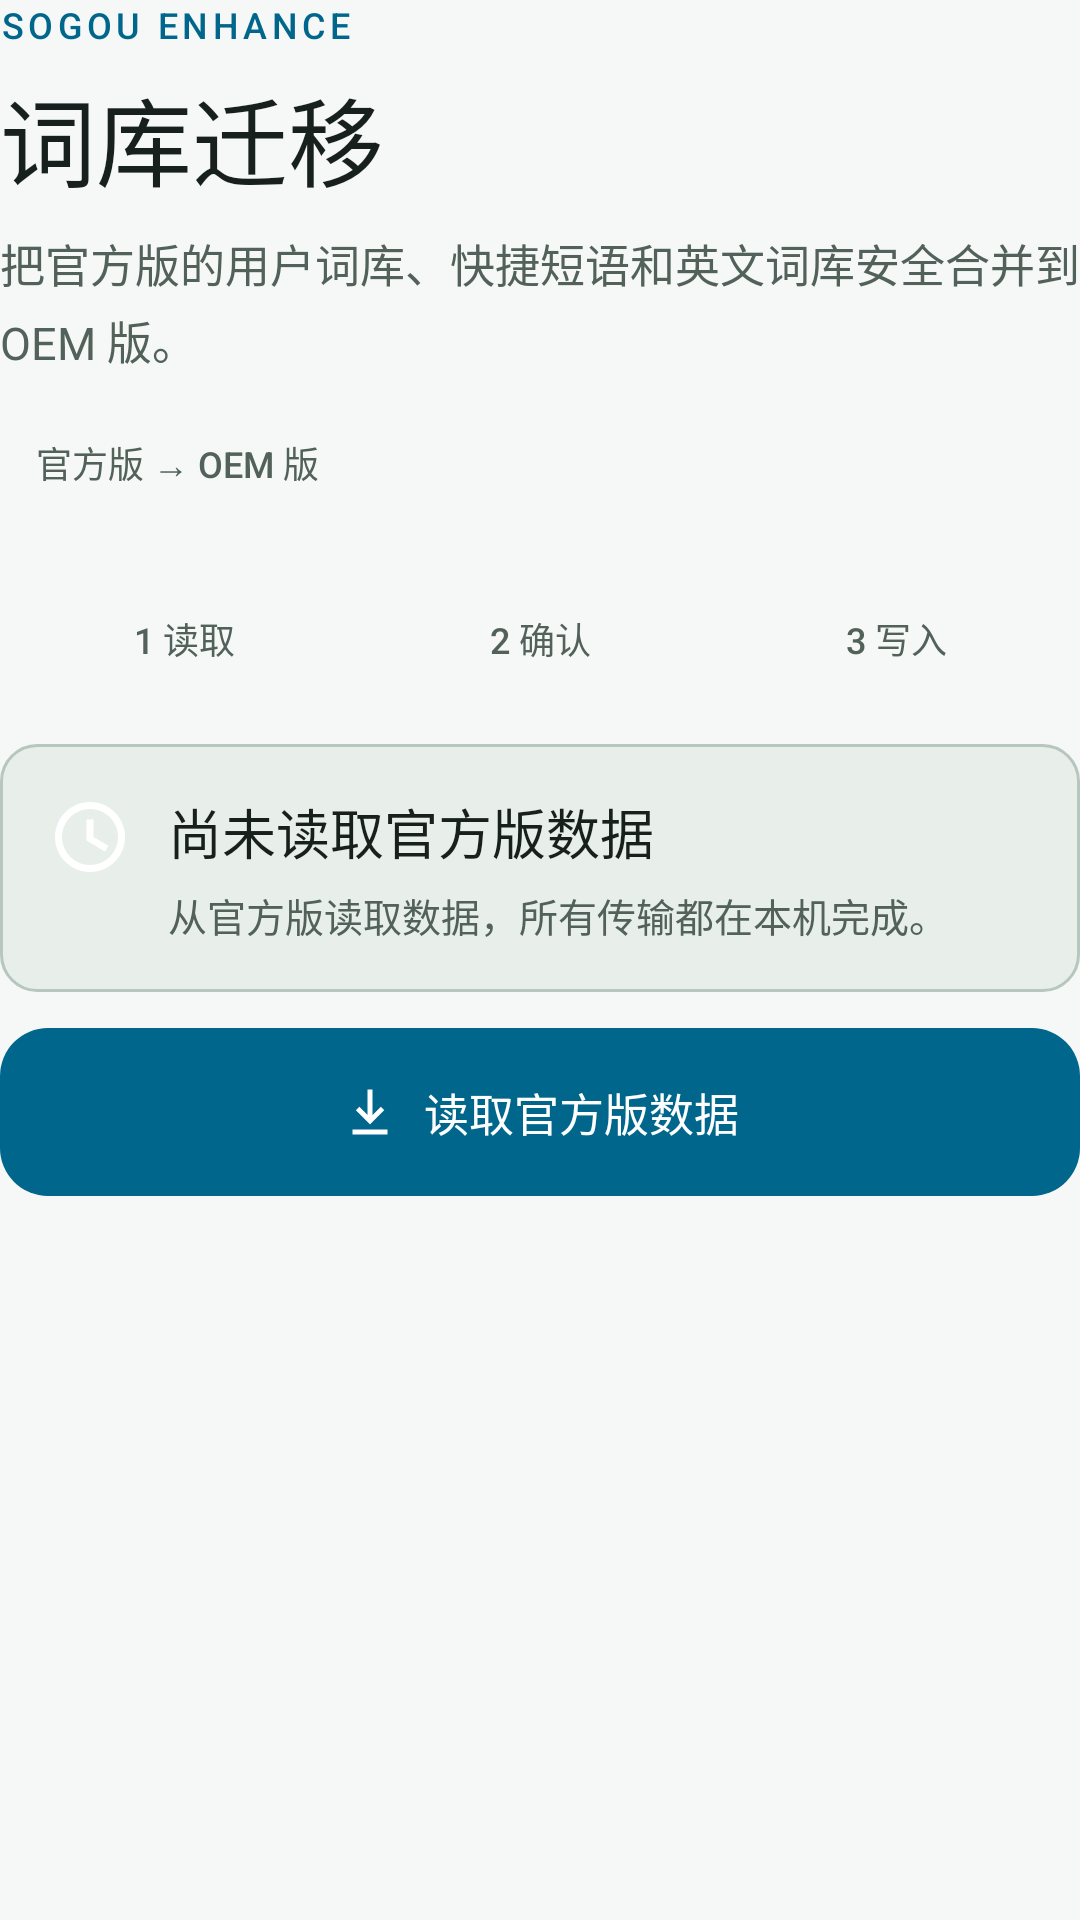

Icon click points for this 1080px×1920px phone screenshot, format (x,y):
download: (370,1112)
